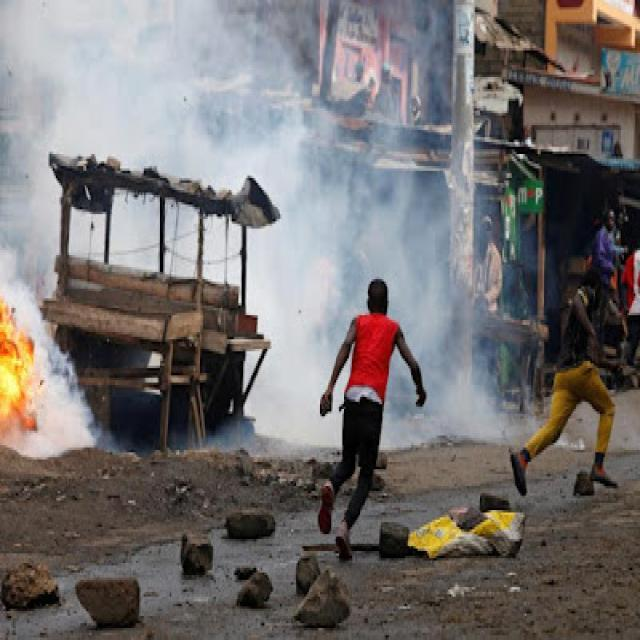Smoke: (13, 2, 330, 157), (280, 166, 454, 286), (399, 290, 496, 432), (257, 292, 328, 446)
